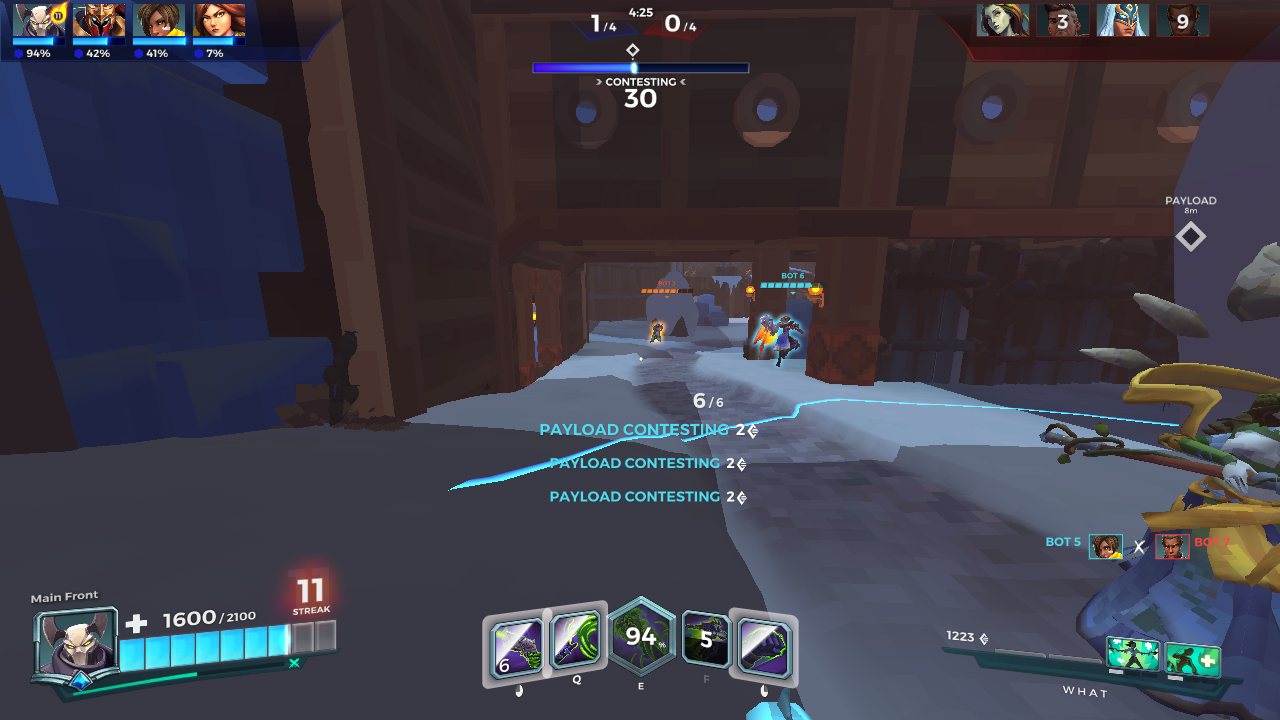model: (647, 321, 667, 346)
